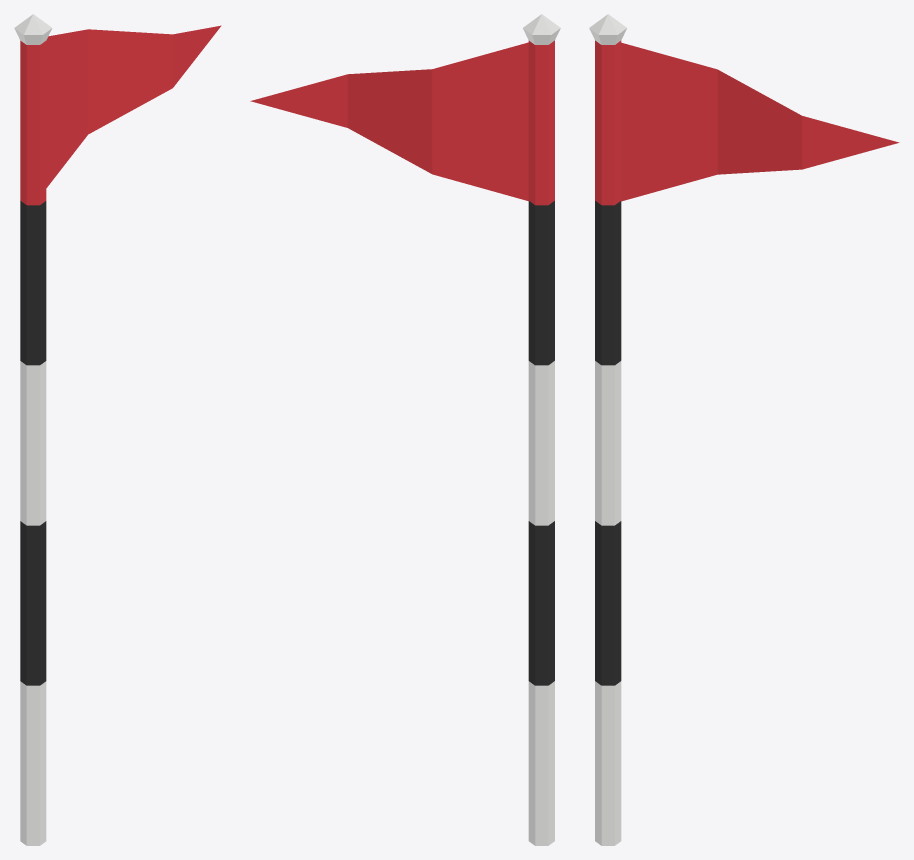
File: flag-golf.glb
The picture shows the model from 3 angles, left to right: view 1: azimuth 30°, elevation 25°; view 2: azimuth 150°, elevation 25°; view 3: azimuth 330°, elevation 25°; orthographic projection.
Parts seen in each view (by area): view 1: flag-golf; view 2: flag-golf; view 3: flag-golf.
Boxes of the visible parts, x1,y1,x2,y2 form: flag-golf: (14, 14, 221, 845); flag-golf: (250, 14, 560, 845); flag-golf: (589, 14, 899, 845).
Size of the model in its own units: 0.6649 by 2.07 by 0.2771.
Materials: 1 (1 with a texture image).
